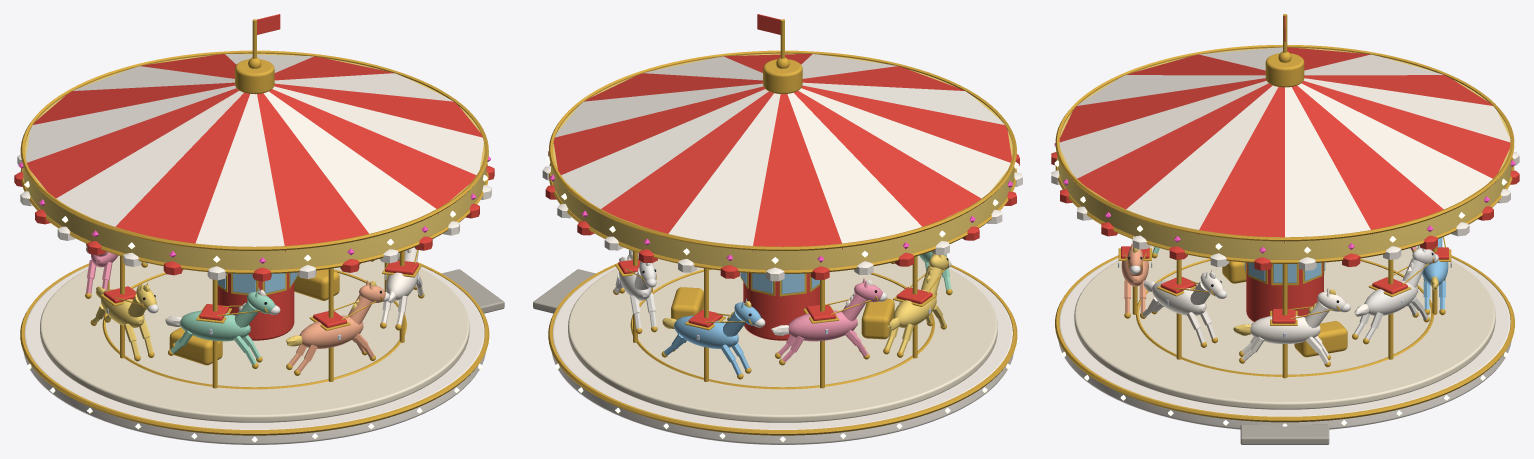
File: carousel.glb
The picture shows the model from 3 angles, left to right: view 1: azimuth 30°, elevation 25°; view 2: azimuth 150°, elevation 25°; view 3: azimuth 270°, elevation 25°; orthographic projection.
Visible parts, largest first — view 1: carousel_top, carousel; view 2: carousel_top, carousel; view 3: carousel_top, carousel.
Boxes of the visible parts, bbox=[...] form: carousel_top: bbox=[14, 14, 494, 422]; carousel: bbox=[18, 262, 504, 444]; carousel_top: bbox=[542, 14, 1022, 422]; carousel: bbox=[533, 263, 1018, 444]; carousel_top: bbox=[1051, 14, 1519, 409]; carousel: bbox=[1054, 245, 1516, 444].
Size of the model in its own units: 8.88 by 6.4 by 8.45.
Materials: 1 (1 with a texture image).
